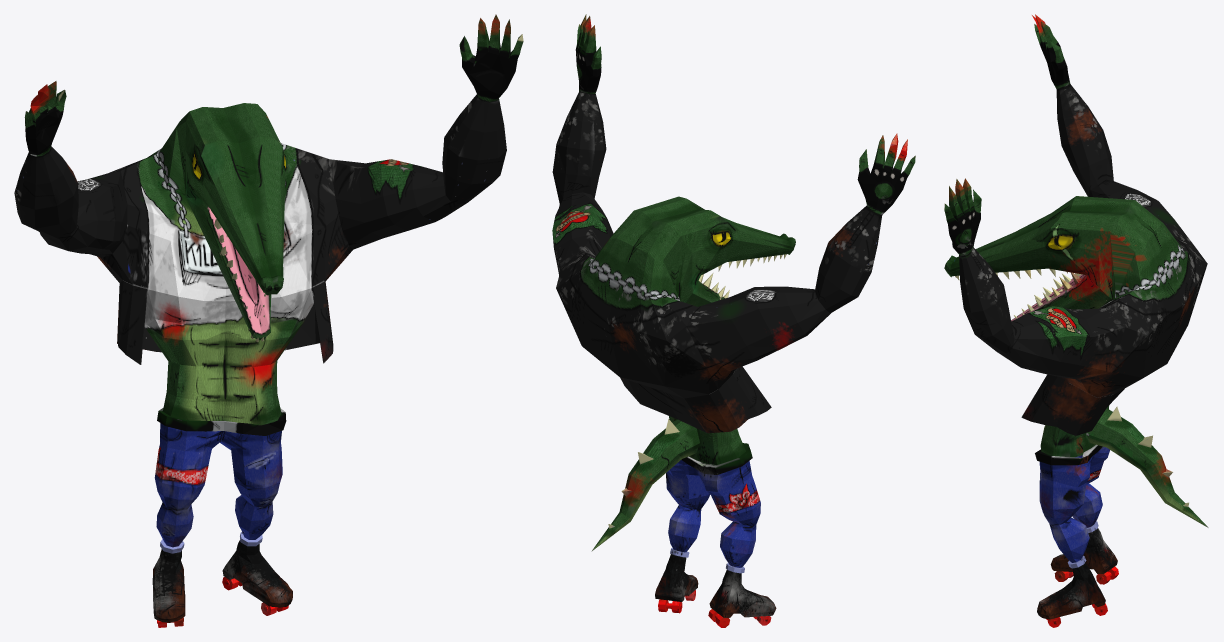
Rendered from cocodrilaBonesSelect_000003.obj.
3 renders of one model, left to right at view 1: azimuth 30°, elevation 25°; view 2: azimuth 150°, elevation 25°; view 3: azimuth 270°, elevation 25°, orthographic. The views are drawn at different scales.
Visible parts, largest first — view 1: Crocodile.002_Cylinder.002; view 2: Crocodile.002_Cylinder.002; view 3: Crocodile.002_Cylinder.002.
Boxes of the visible parts, bbox=[...] form: Crocodile.002_Cylinder.002: bbox=[14, 14, 523, 627]; Crocodile.002_Cylinder.002: bbox=[552, 14, 915, 627]; Crocodile.002_Cylinder.002: bbox=[944, 14, 1208, 627].
Bounding box in the file's own units: 6.38 × 8.15 × 3.81.
